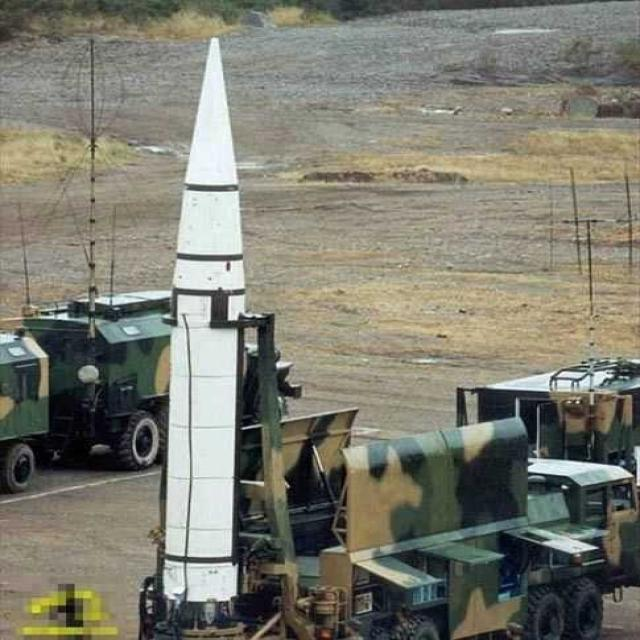missile: (147, 24, 251, 635)
